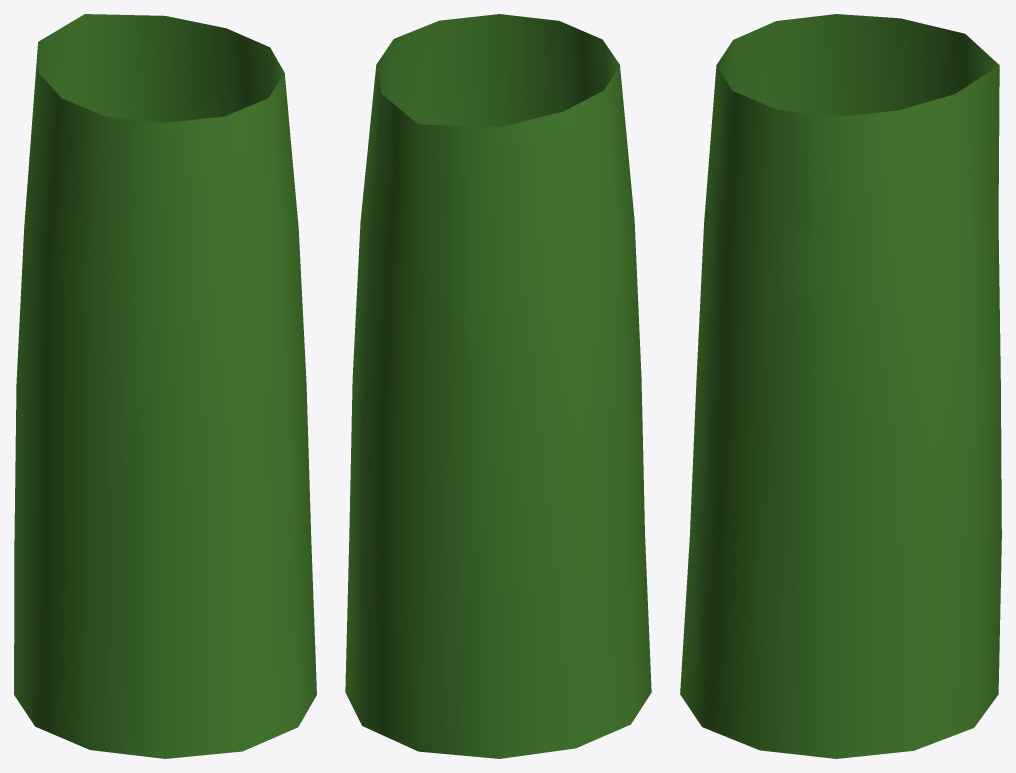
The model's file is jungle_armor_greave.R.glb.
3 views of the same model, side by side, from view 1: azimuth 30°, elevation 25°; view 2: azimuth 150°, elevation 25°; view 3: azimuth 270°, elevation 25° (orthographic).
Visible parts, largest first — view 1: jungle_armor_greave.R; view 2: jungle_armor_greave.R; view 3: jungle_armor_greave.R.
Part boxes in pixels (left/top/right/bottom): jungle_armor_greave.R: left=14, top=14, right=316, bottom=758; jungle_armor_greave.R: left=345, top=14, right=651, bottom=758; jungle_armor_greave.R: left=680, top=14, right=1001, bottom=758.
Size of the model in its own units: 0.1656 by 0.3767 by 0.1746.
